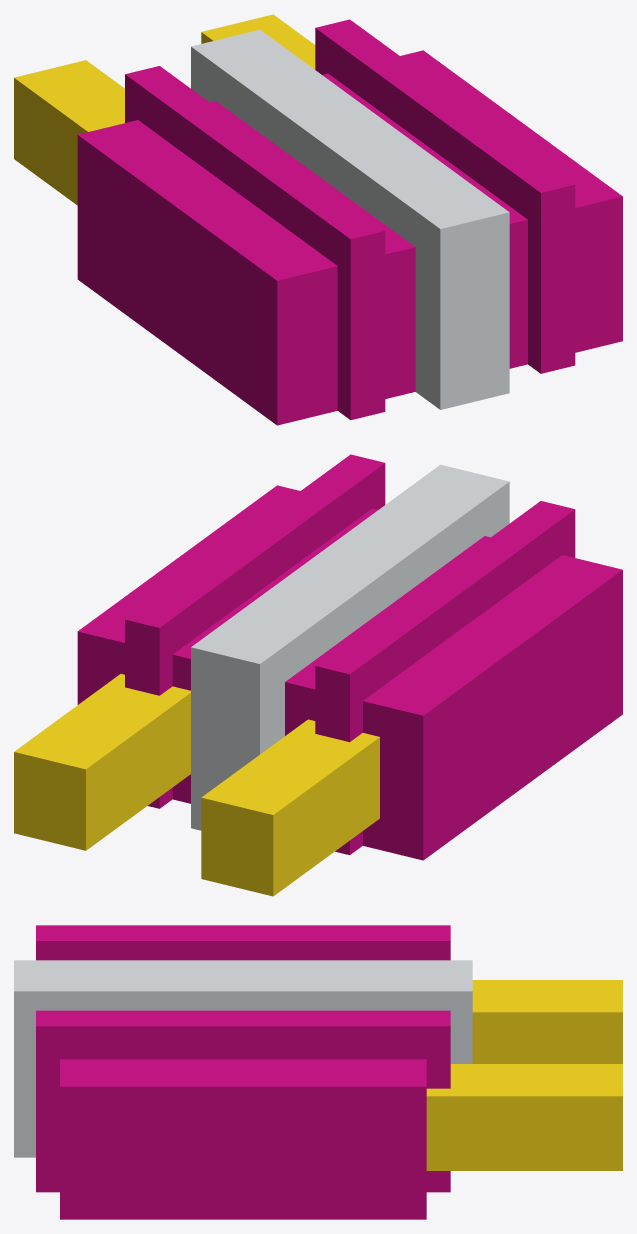
File: tinker.obj
The picture shows the model from 3 angles, top to bottom: view 1: azimuth 30°, elevation 25°; view 2: azimuth 150°, elevation 25°; view 3: azimuth 270°, elevation 25°; orthographic projection. The views are drawn at different scales.
Parts seen in each view (by area): view 1: group_0_14093196, group_0_14541540, group_0_16768282; view 2: group_0_14093196, group_0_16768282, group_0_14541540; view 3: group_0_14093196, group_0_16768282, group_0_14541540.
Part boxes in pixels (x1=…): group_0_14093196: x1=77, y1=19, x2=622, y2=425; group_0_14541540: x1=191, y1=29, x2=509, y2=409; group_0_16768282: x1=14, y1=14, x2=315, y2=205; group_0_14093196: x1=77, y1=454, x2=622, y2=860; group_0_16768282: x1=14, y1=674, x2=379, y2=896; group_0_14541540: x1=191, y1=464, x2=509, y2=830; group_0_14093196: x1=36, y1=925, x2=450, y2=1219; group_0_16768282: x1=426, y1=980, x2=622, y2=1170; group_0_14541540: x1=14, y1=960, x2=472, y2=1157.
Bounding box in the file's own units: 20 × 10 × 33.2.
